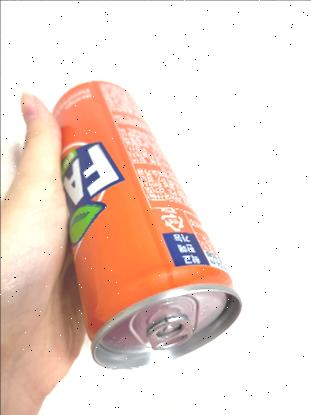Can: (48, 77, 248, 376)
